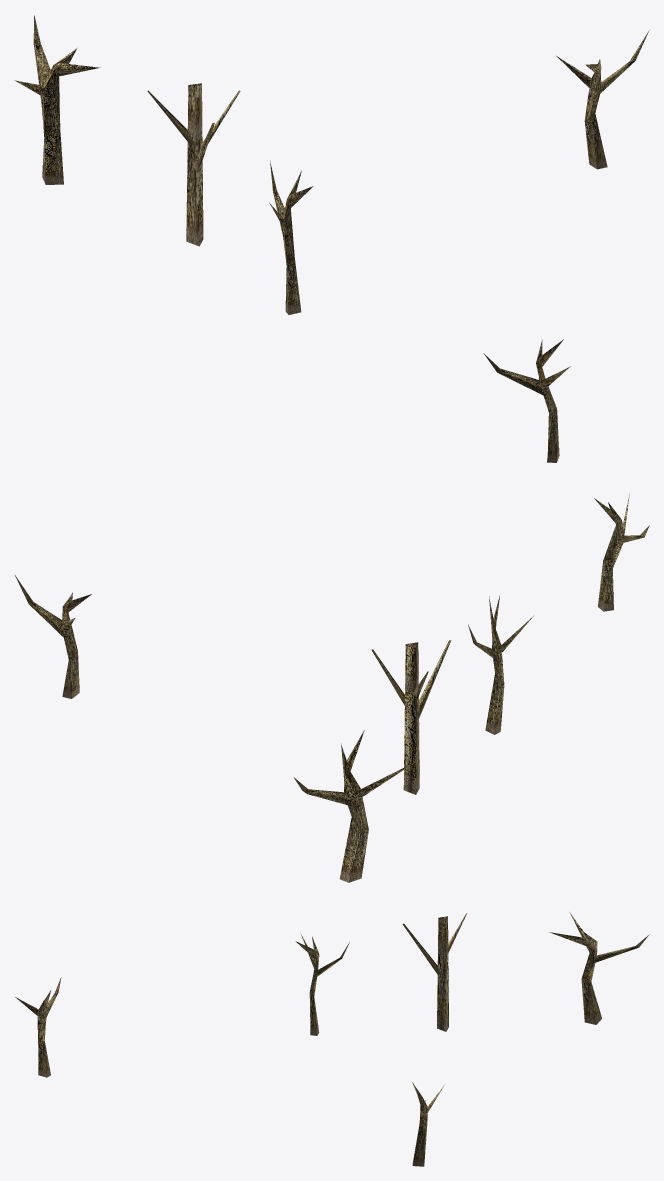
The picture shows the model from 3 angles, top to bottom: view 1: azimuth 30°, elevation 25°; view 2: azimuth 150°, elevation 25°; view 3: azimuth 270°, elevation 25°; orthographic projection. The views are drawn at different scales.
Parts seen in each view (by area): view 1: Object28; view 2: Object28; view 3: Object28.
Part boxes in pixels (<box>): Object28: <box>14,15,649,462</box>; Object28: <box>15,493,649,882</box>; Object28: <box>15,912,649,1166</box>.
Bounding box in the file's own units: 618 × 206 × 899.
